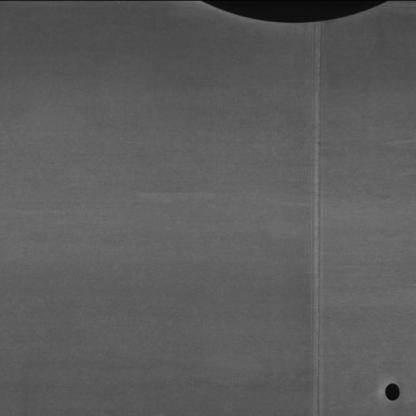crescent_gap: (195, 0, 394, 28)
punching_hole: (376, 378, 404, 404)
welding_line: (305, 22, 332, 415)
